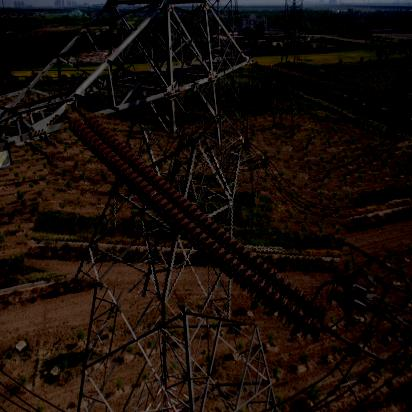insulator: (32, 123, 353, 326), (265, 64, 399, 107)
